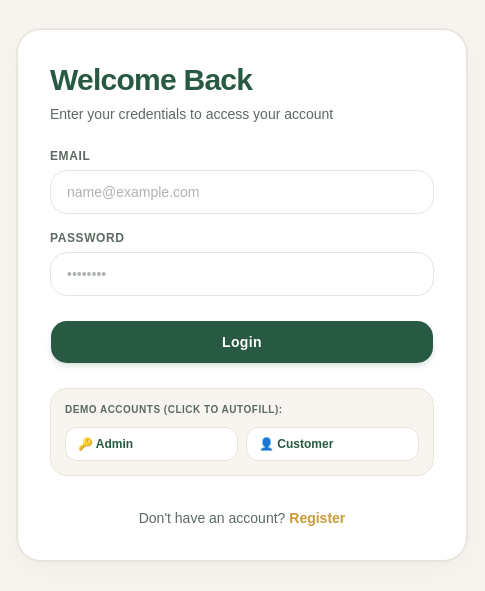
Test: Login Component › Validation › shows "Email is required" when email is empty
This screenshot has width=485, height=591.
Type "password123" into the password field labelled "Password" at coordinates (242, 274), box [50,252,434,296]
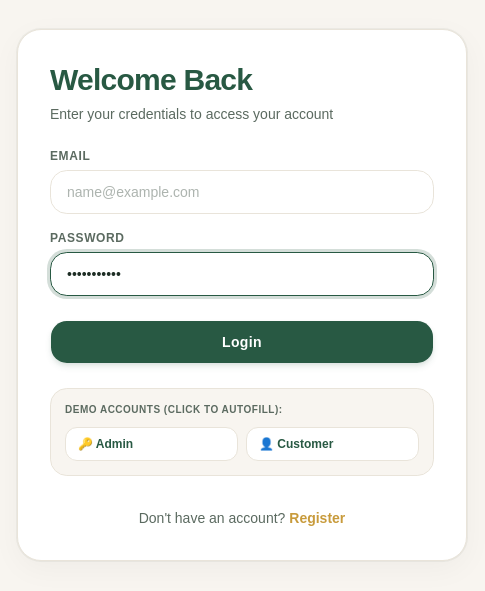
Click the button "Login" at coordinates (242, 342), box [50,320,434,364]
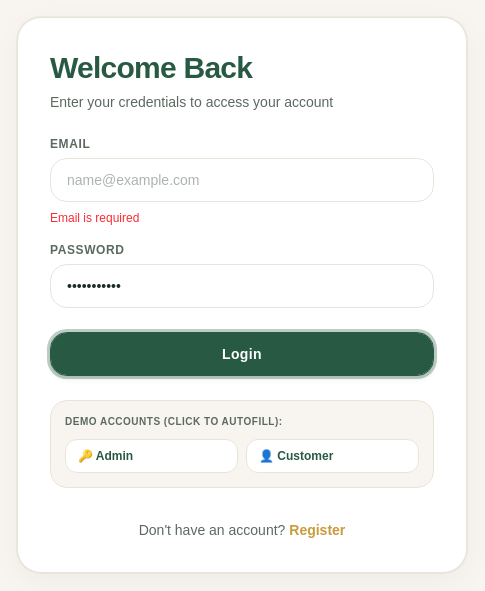
Result: the text "Email is required" is shown at [50,211,139,225]
